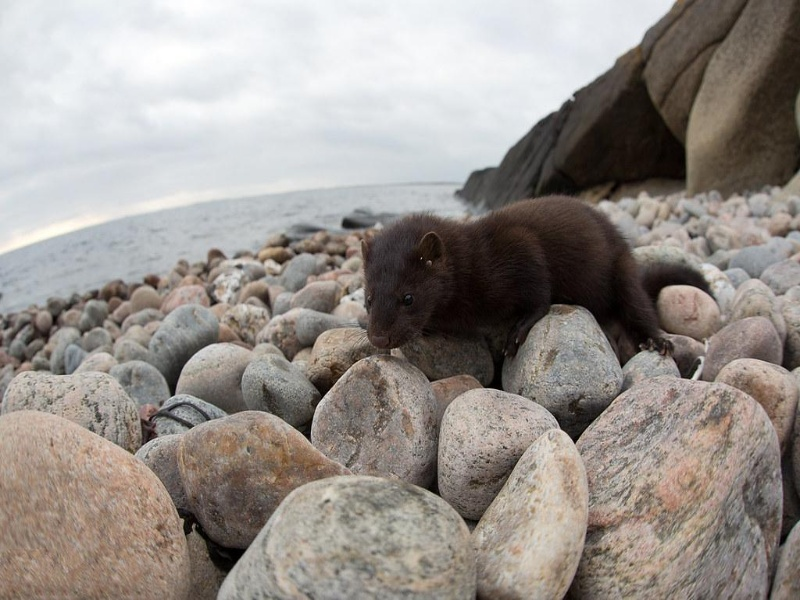minkish: (353, 194, 719, 354)
